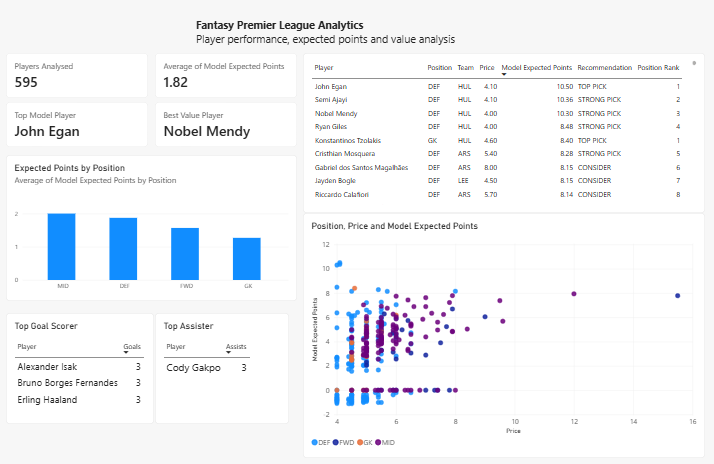

Layout of this report page (visuals, bound fields, positions):
{"tool":"powerbi","page":{"name":"FPL Overview","canvas":[1920,1080],"ordinal":0},"visuals":[{"type":"tableEx","fields":{"Values":["Player_Analysis.Player","Player_Analysis.Position","Player_Analysis.Team Code","Player_Analysis.Price","Player_Analysis.Model Expected Points","Player_Analysis.Recommendation","Player_Analysis.Position Rank"]},"box":[668,130,804,320],"z":0},{"type":"scatterChart","fields":{"Series":["Player_Analysis.Position"],"X":["Player_Analysis.Price"],"Y":["Player_Analysis.Model Expected Points"]},"box":[668,450,804,490],"z":1000},{"type":"textbox","box":[1624,94,296,966],"z":2000},{"type":"textbox","box":[454,58,710,72],"z":3000},{"type":"cardVisual","fields":{"Data":["CountNonNull(Player_Analysis.Player)"]},"box":[74,130,284,90],"z":4000},{"type":"cardVisual","fields":{"Data":["Avg(Player_Analysis.Model Expected Points)"]},"box":[372,130,284,90],"z":5000},{"type":"cardVisual","fields":{"Data":["Player_Analysis.Best Value Player"]},"box":[372,228,284,90],"z":6000},{"type":"cardVisual","fields":{"Data":["Player_Analysis.Top Model Player"]},"box":[74,228,284,90],"z":7000},{"type":"clusteredColumnChart","title":"Expected Points by Position","fields":{"Category":["Player_Analysis.Position"],"Y":["Avg(Player_Analysis.Model Expected Points)"]},"box":[74,334,582,292],"z":7001},{"type":"tableEx","title":"Top Goal Scorer","fields":{"Values":["Player_Analysis.Player","Player_Analysis.Goals"]},"box":[74,650,296,222],"z":7002},{"type":"tableEx","title":"Top Assister","fields":{"Values":["Player_Analysis.Player","Player_Analysis.Assists"]},"box":[372,650,268,222],"z":7003}]}

Visuals, with their boxes on the page's 1920x1080 design canvas (x1, y1, x2, y2). These are canvas units, not pixel positions in the 714x464 screenshot, which may show the page scaled, cropped or inside an application window:
tableEx - Player_Analysis.Player x Player_Analysis.Position: [left=668, top=130, right=1472, bottom=450]
scatterChart - Player_Analysis.Position x Player_Analysis.Price: [left=668, top=450, right=1472, bottom=940]
textbox: [left=1624, top=94, right=1920, bottom=1060]
textbox: [left=454, top=58, right=1164, bottom=130]
cardVisual - CountNonNull(Player_Analysis.Player): [left=74, top=130, right=358, bottom=220]
cardVisual - Avg(Player_Analysis.Model Expected Points): [left=372, top=130, right=656, bottom=220]
cardVisual - Player_Analysis.Best Value Player: [left=372, top=228, right=656, bottom=318]
cardVisual - Player_Analysis.Top Model Player: [left=74, top=228, right=358, bottom=318]
"Expected Points by Position" clusteredColumnChart: [left=74, top=334, right=656, bottom=626]
"Top Goal Scorer" tableEx: [left=74, top=650, right=370, bottom=872]
"Top Assister" tableEx: [left=372, top=650, right=640, bottom=872]
